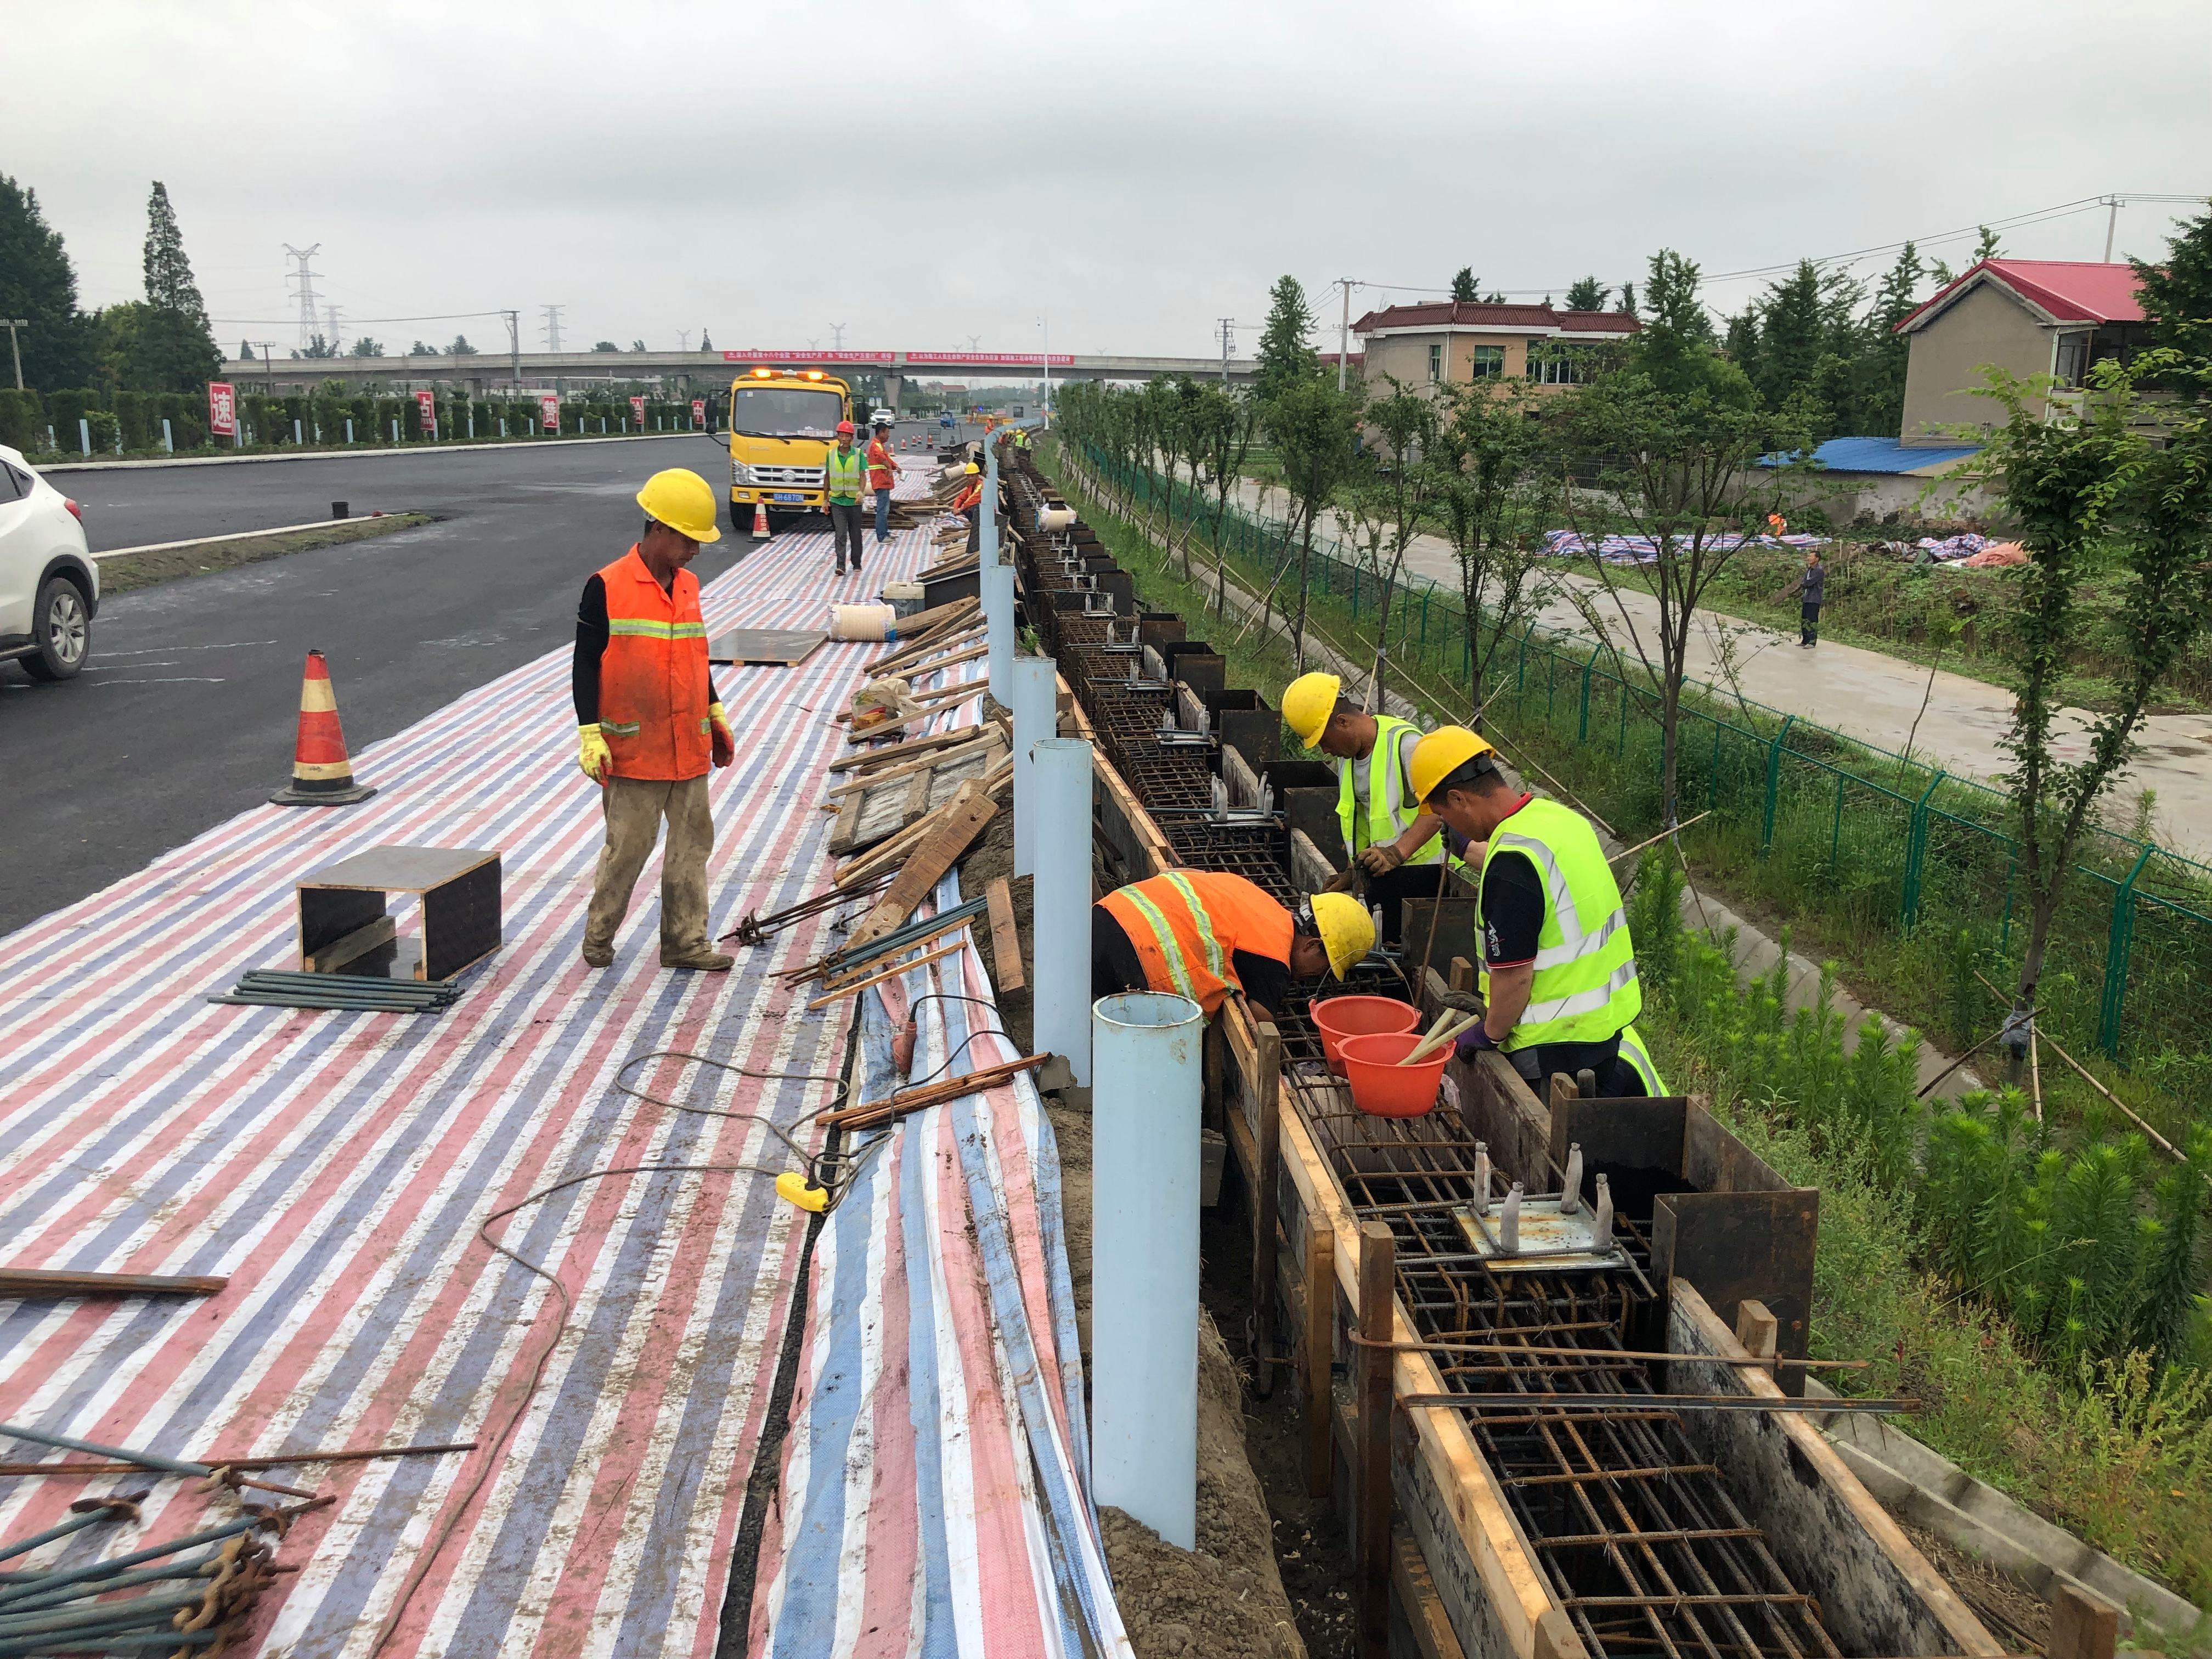head: (874, 421, 890, 443), (1807, 550, 1822, 566)
ordinary_clothes: (1802, 565, 1825, 603)
person: (1406, 718, 1645, 1095), (568, 464, 738, 974), (1092, 861, 1379, 1030), (1279, 669, 1446, 937), (821, 420, 867, 574), (867, 420, 903, 546), (1795, 550, 1825, 649), (952, 461, 984, 522)
reflective_vest: (1477, 796, 1644, 1053), (1091, 862, 1295, 1029), (583, 540, 717, 781), (1334, 711, 1442, 864), (827, 447, 861, 498), (868, 436, 898, 491), (953, 480, 984, 512)
safety_helmet: (1406, 721, 1518, 844), (635, 465, 720, 573), (1279, 669, 1375, 762), (1293, 887, 1378, 984), (835, 420, 855, 449), (963, 461, 980, 486)
